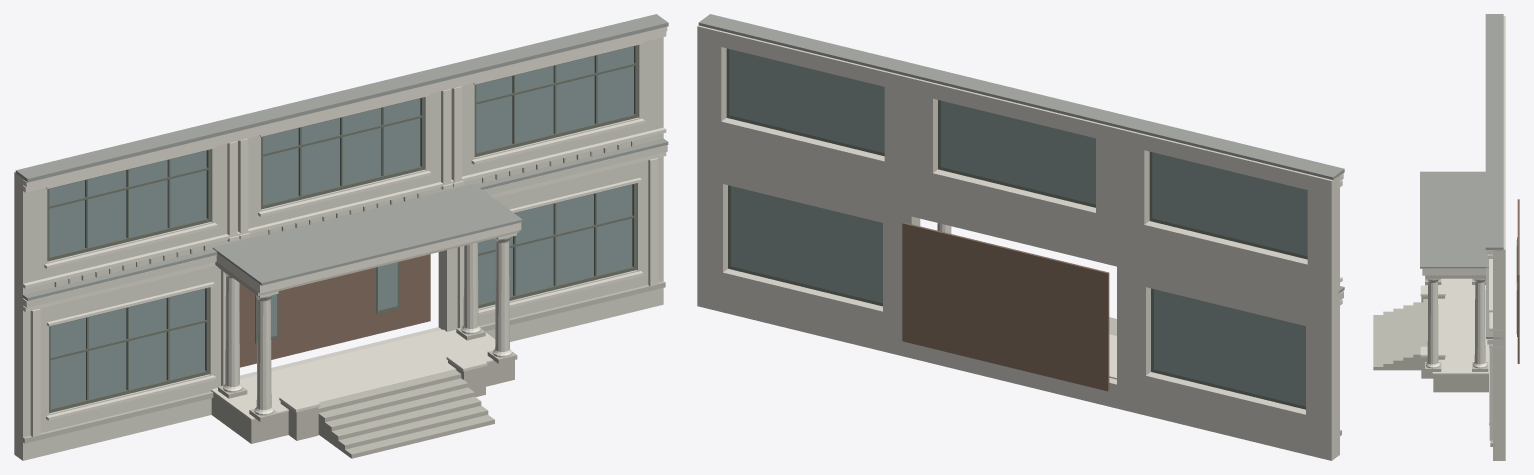
The model's file is xuhui-huaihai-1469-garden-front-lod.glb.
3 views of the same model, side by side, from view 1: azimuth 30°, elevation 25°; view 2: azimuth 150°, elevation 25°; view 3: azimuth 270°, elevation 25° (orthographic). The views are drawn at different scales.
Parts seen in each view (by area): view 1: 淮海中路1469号历史花园立面; view 2: 淮海中路1469号历史花园立面; view 3: 淮海中路1469号历史花园立面.
Boxes of the visible parts, x1,y1,x2,y2 form: 淮海中路1469号历史花园立面: (14,14,668,460); 淮海中路1469号历史花园立面: (697,14,1344,460); 淮海中路1469号历史花园立面: (1373,14,1519,460).
Size of the model in its own units: 16.56 by 7.05 by 4.38.
